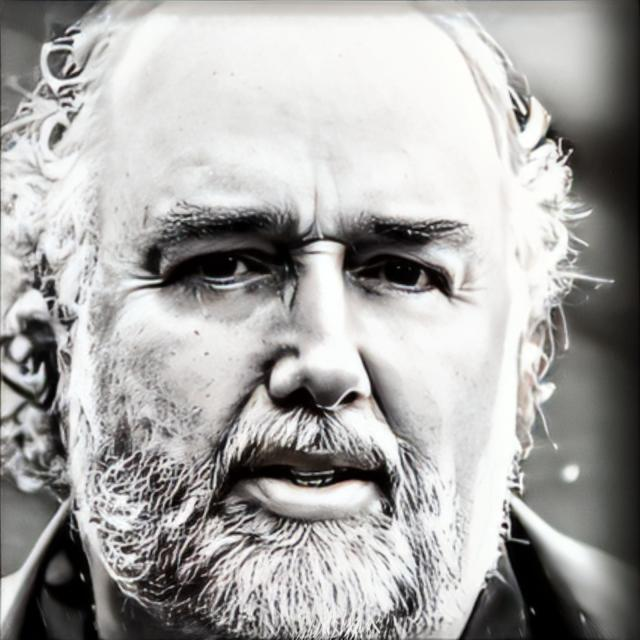disgust: (70, 0, 512, 640)
